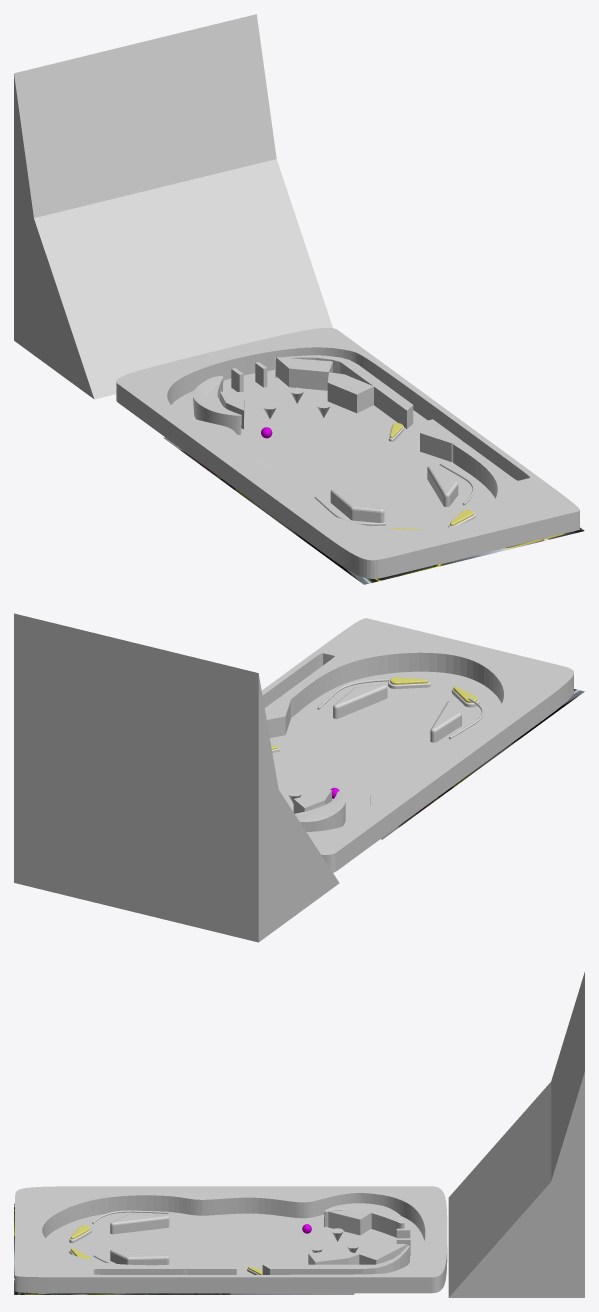
File: Playfield_new.fbx
The picture shows the model from 3 angles, top to bottom: view 1: azimuth 30°, elevation 25°; view 2: azimuth 150°, elevation 25°; view 3: azimuth 270°, elevation 25°; orthographic projection. The views are drawn at different scales.
Parts seen in each view (by area): view 1: Display, Playfield, Field, Playfield.001, Playfield.004, Image, Playfield.005, Left bumper, Right bumper; view 2: Display, Playfield, Field, Right bumper, Playfield.005, Left bumper, Image, Playfield.003, Flipper Right; view 3: Playfield, Display, Field, Playfield.004, Playfield.001, Playfield.003, Left bumper, Image, Right bumper, Playfield.005.
Boxes of the visible parts, x1,y1,x2,y2 form: Display: (14, 14, 332, 399); Playfield: (116, 327, 579, 578); Field: (171, 370, 494, 529); Playfield.001: (276, 357, 373, 413); Playfield.004: (275, 355, 413, 428); Image: (163, 437, 584, 584); Playfield.005: (420, 419, 461, 461); Left bumper: (330, 489, 384, 522); Right bumper: (427, 465, 458, 506); Display: (14, 613, 339, 942); Playfield: (261, 618, 573, 872); Field: (270, 671, 501, 826); Right bumper: (333, 684, 387, 718); Playfield.005: (264, 697, 290, 738); Left bumper: (430, 701, 461, 742); Image: (381, 689, 584, 839); Playfield.003: (293, 790, 331, 813); Flipper Right: (388, 677, 430, 688); Playfield: (15, 1186, 447, 1293); Display: (448, 972, 584, 1297); Field: (38, 1212, 424, 1293); Playfield.004: (262, 1245, 409, 1274); Playfield.001: (308, 1243, 407, 1264); Playfield.003: (328, 1209, 371, 1235); Left bumper: (110, 1214, 169, 1234); Image: (14, 1203, 354, 1294); Right bumper: (110, 1249, 169, 1265); Playfield.005: (187, 1259, 236, 1274).
Size of the model in its own units: 434 by 458 by 1044.
